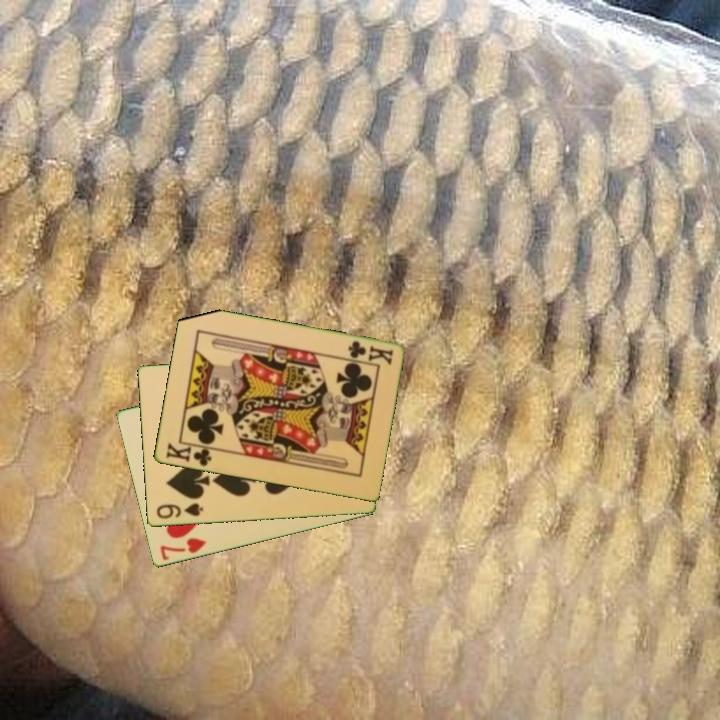7h: (156, 534, 209, 564)
9s: (153, 500, 206, 522)
Kc: (162, 439, 218, 469), (344, 337, 396, 367)
